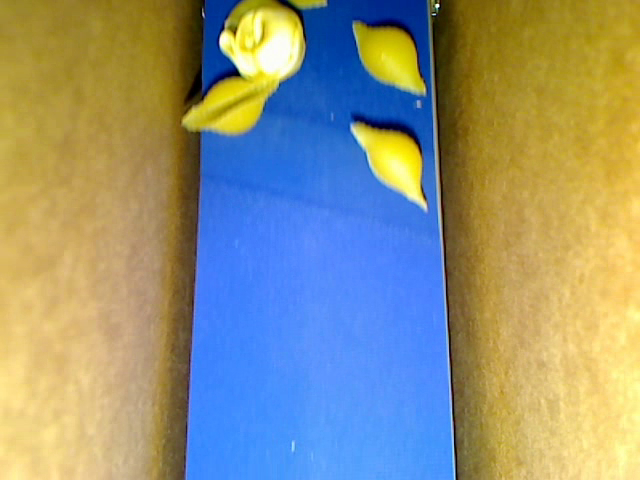shell: (349, 122, 427, 210), (180, 71, 278, 136), (352, 21, 425, 92)
tortellini: (217, 1, 303, 82)
